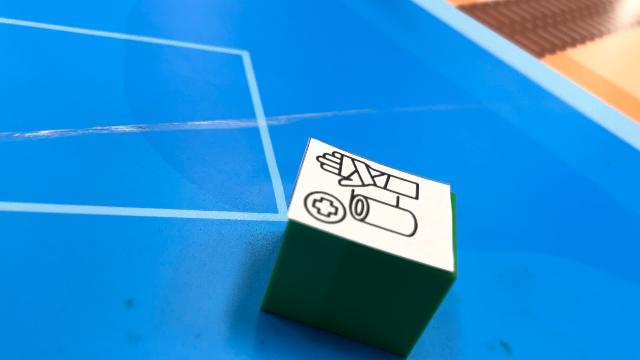bandage: (260, 136, 458, 358)
